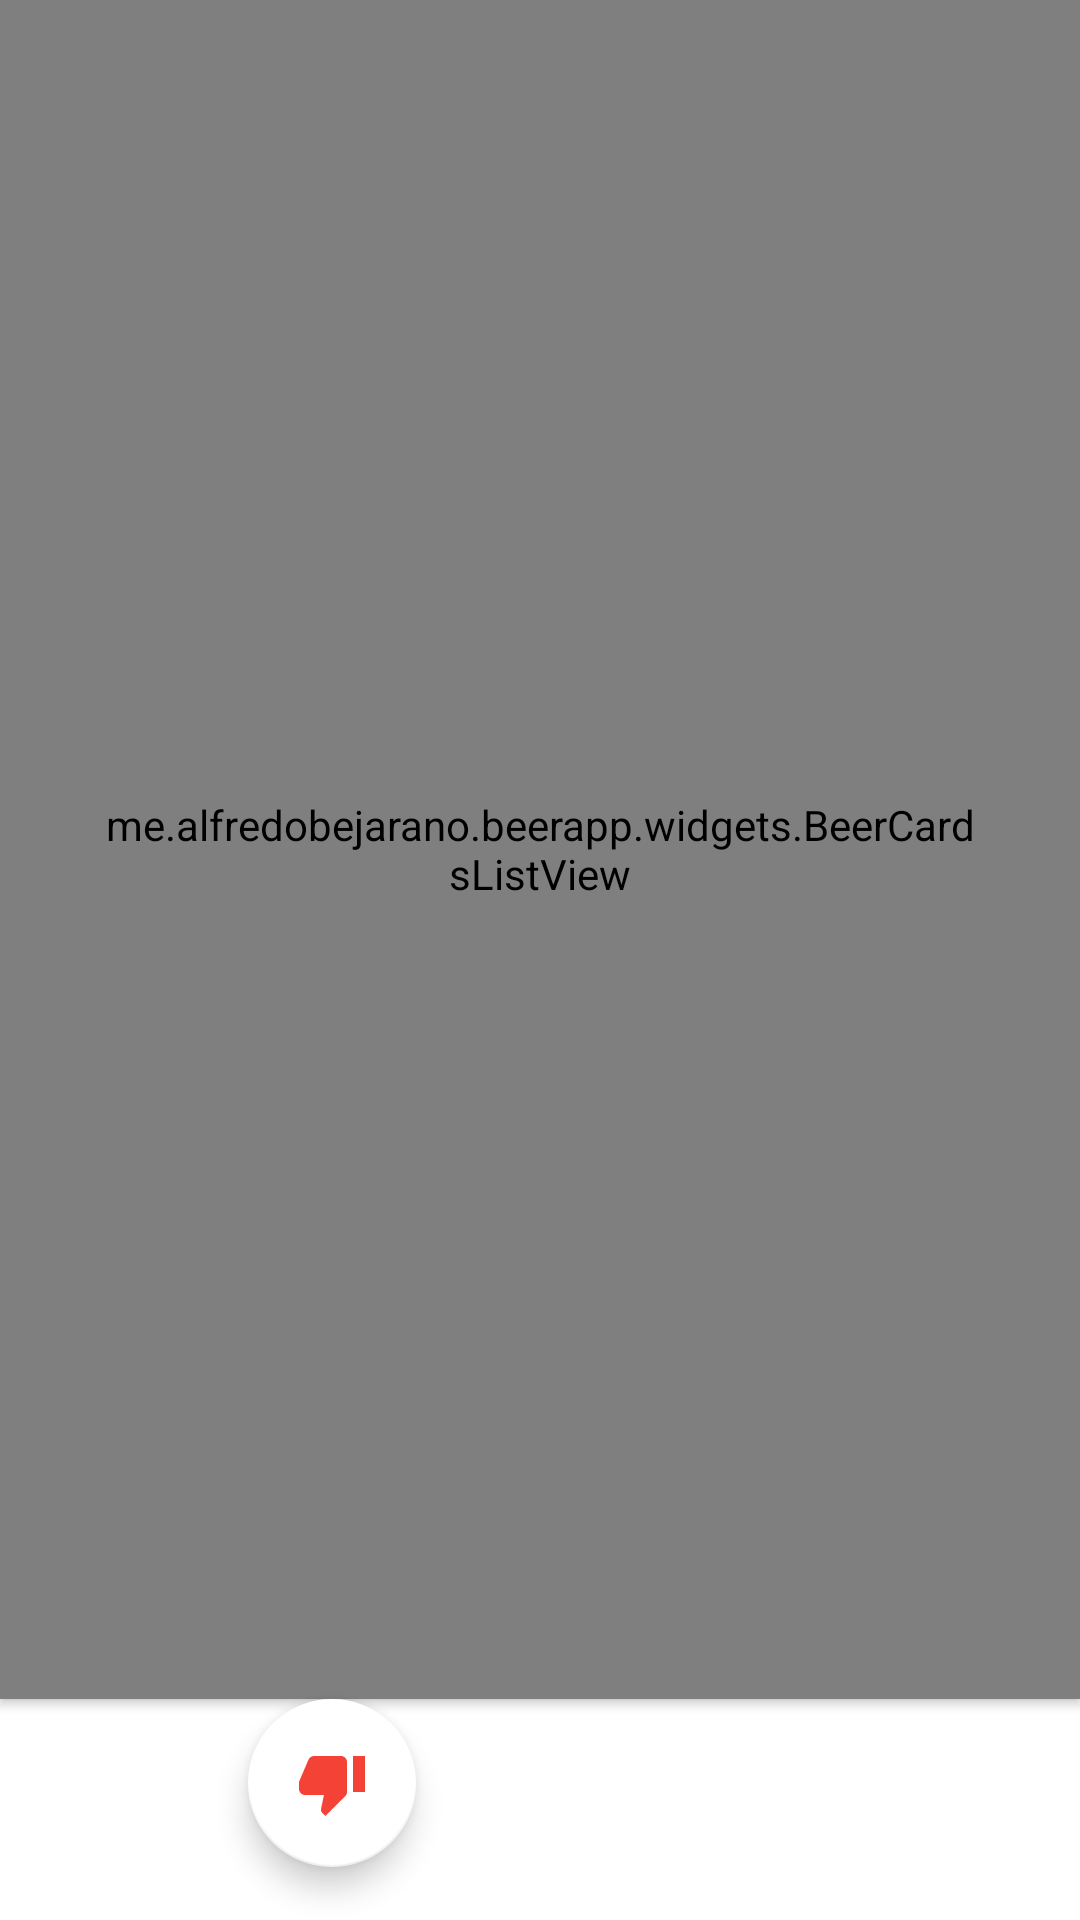

Screen size 1080 x 1920. Icon name, then its box in pixels as (x1, y1, x2, y2):
reject: (299, 1756, 365, 1816)
